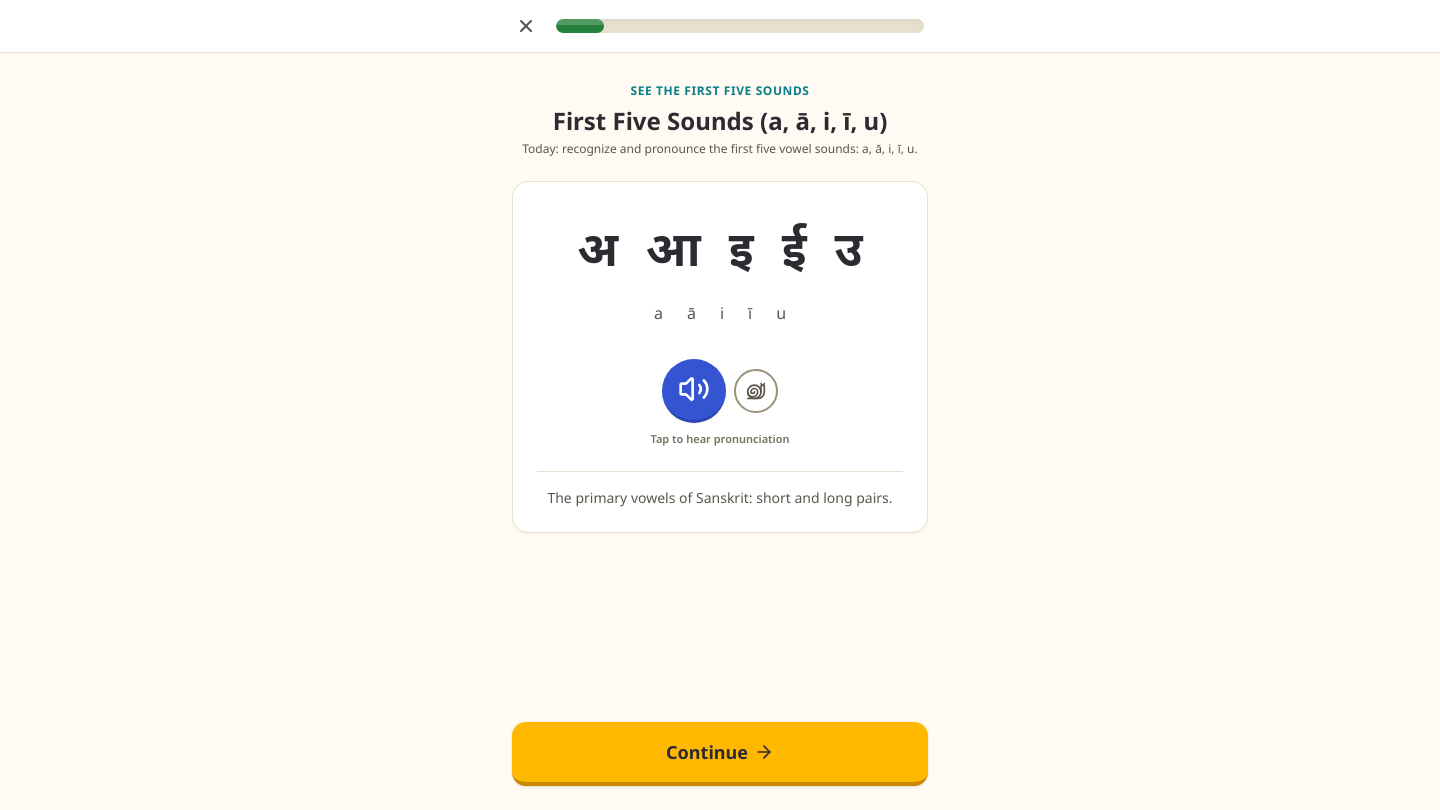
Test case: Lesson Engine Loop › advances to Step 2 (Notice It) and allows tapping tokens to inspect phonetic details
// Advance to Step 2
Step 1. Click the button with test id "lesson-continue-btn" → (720, 754), box [512,722,928,786]
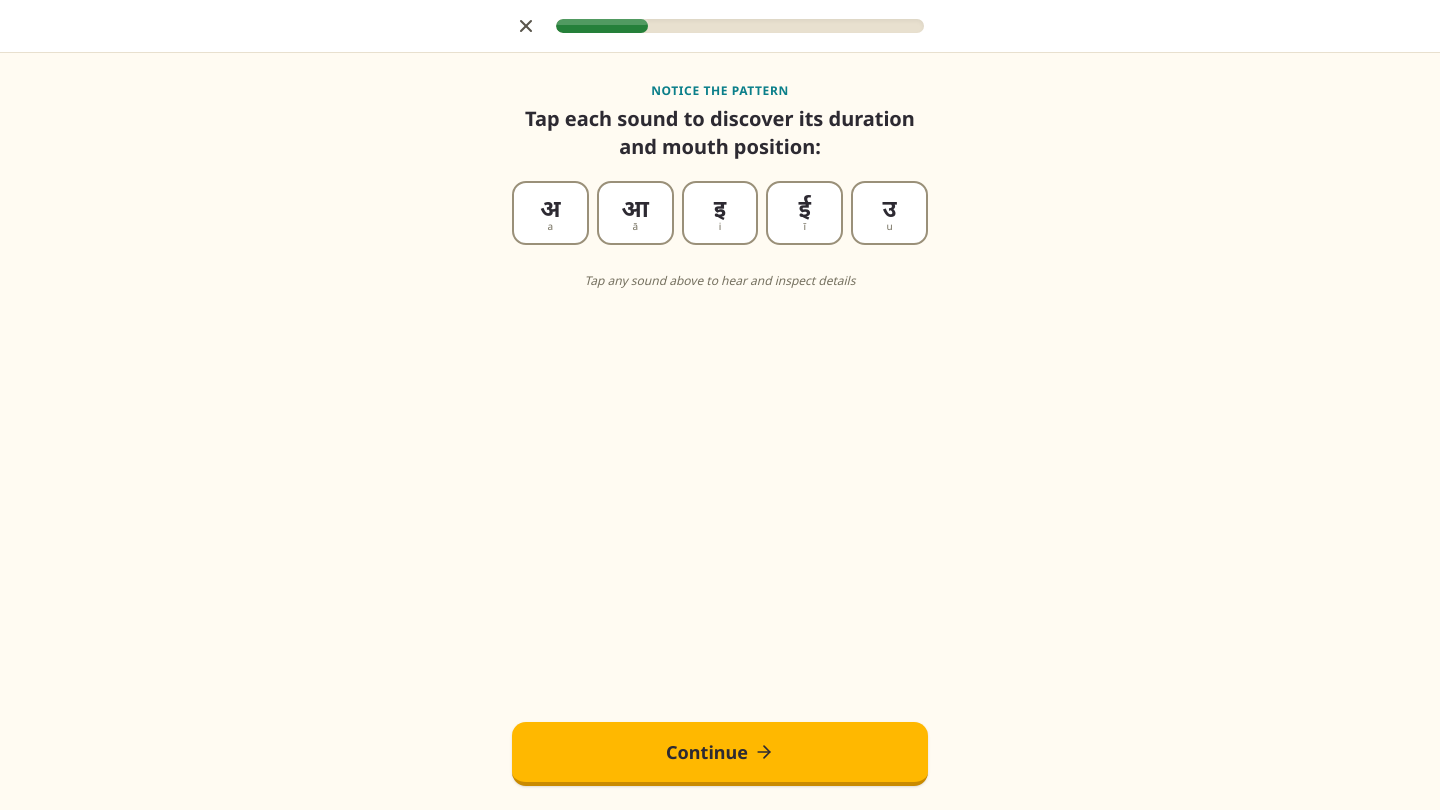
Check: the text "Notice the Pattern" is shown, box [651,82,789,99]
// Tap token 'अ'
Step 2. Click the button with test id "notice-token-अ" → (550, 213), box [512,181,589,245]
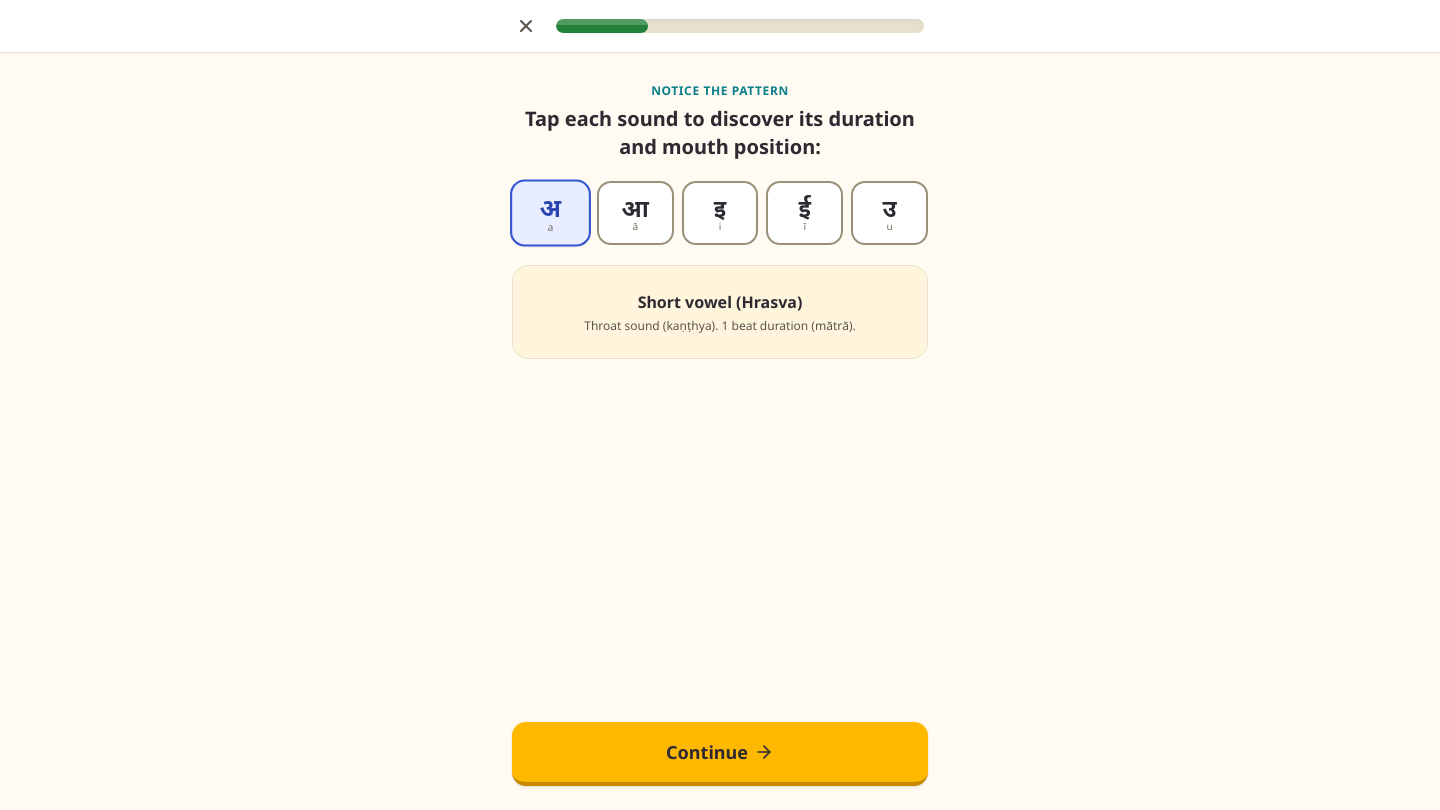
Check: the text "Short vowel (Hrasva)" is shown, box [638,291,802,313]
